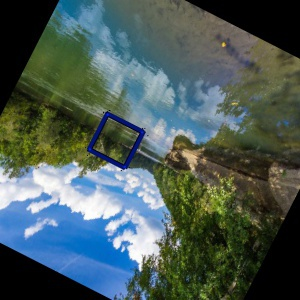square: (86, 110, 146, 172)
